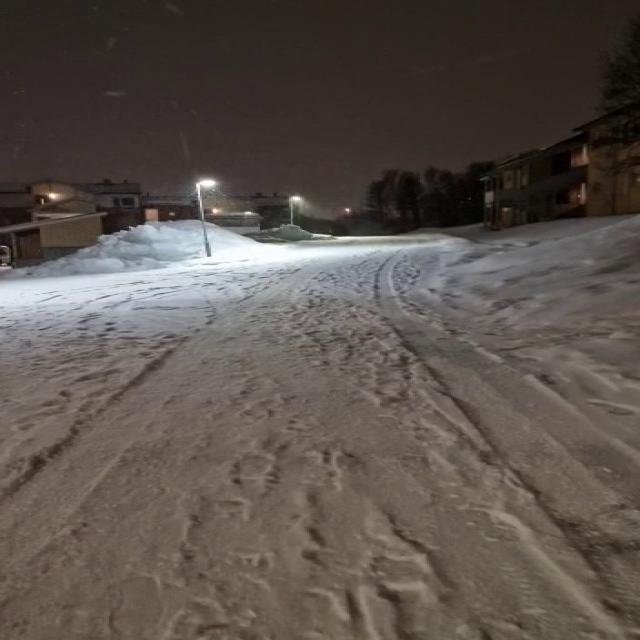path: (0, 237, 640, 640)
